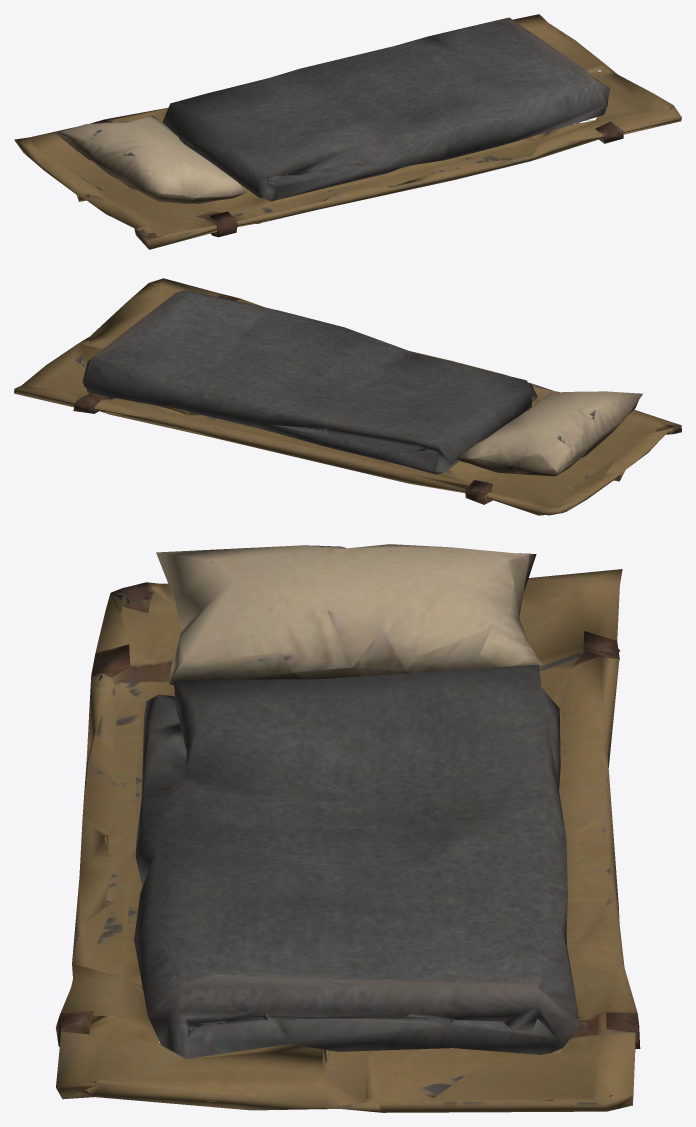
File: prop_bedroll.glb
3 views of the same model, one above another, from view 1: azimuth 30°, elevation 25°; view 2: azimuth 150°, elevation 25°; view 3: azimuth 270°, elevation 25° (orthographic). The views are drawn at different scales.
Visible parts, largest first — view 1: prop; view 2: prop; view 3: prop.
Part boxes in pixels (bbox=[...]): prop: bbox=[14, 14, 681, 249]; prop: bbox=[14, 278, 681, 515]; prop: bbox=[55, 544, 640, 1112].
Bounding box in the file's own units: 2 × 0.1992 × 0.9533.
Materials: 1 (1 with a texture image).
